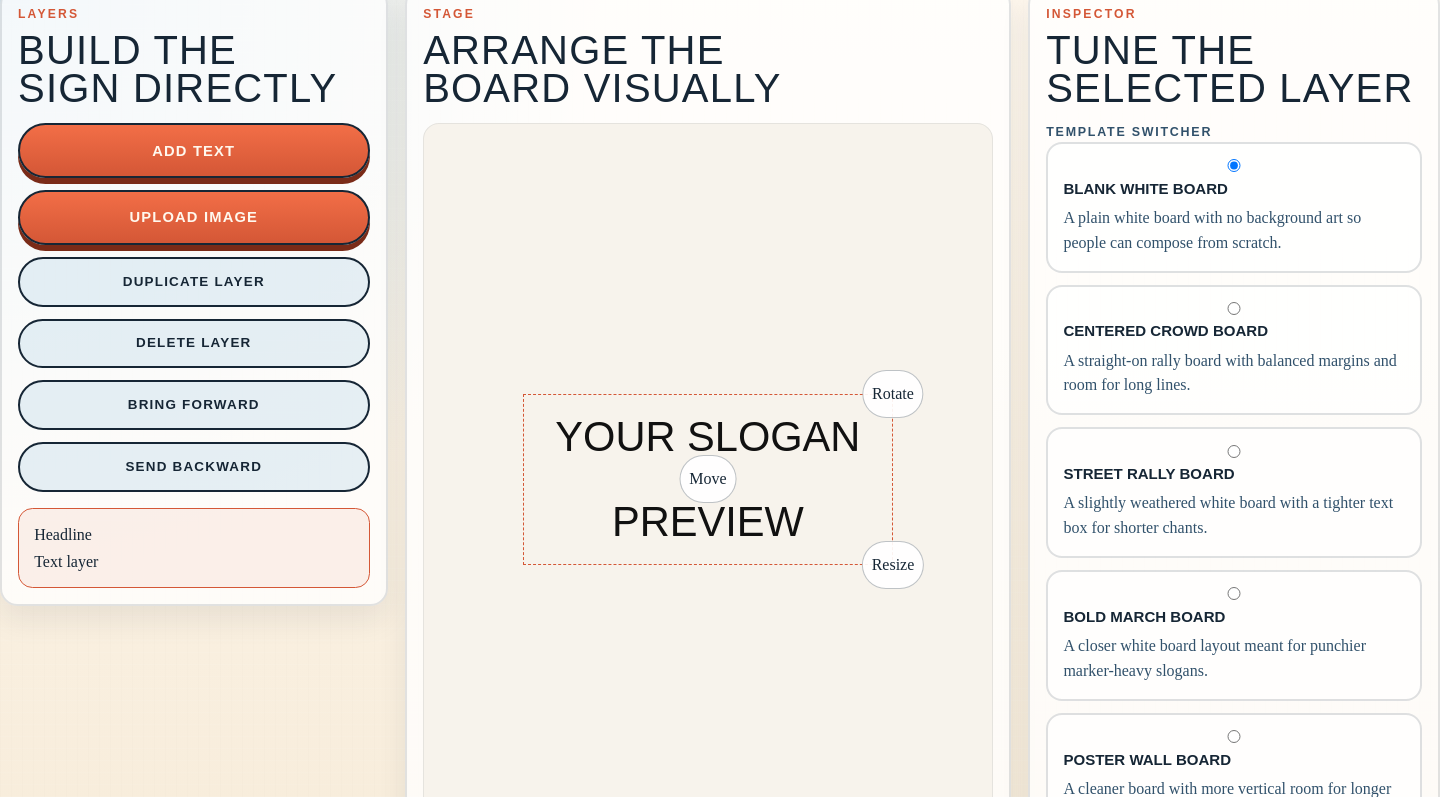
SubmitForm › updates board state when a selected layer is moved, rotated, and resized
The image size is (1440, 797).
Press the mouse on the button with test id "stage-layer-handle-move" at coordinates (708, 479), box [679,455,736,503]
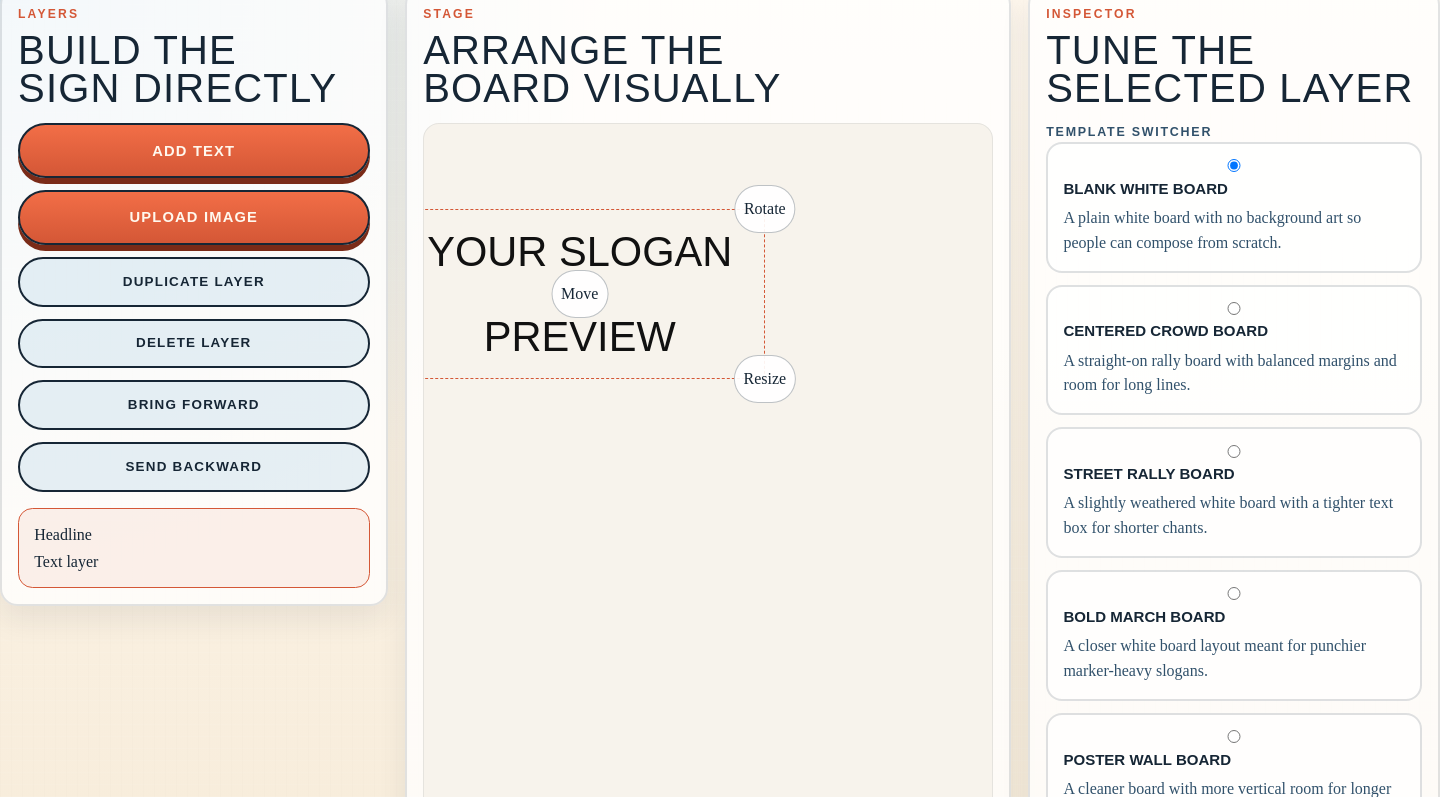
Press the mouse on the button with test id "stage-layer-handle-rotate" at coordinates (765, 209), box [734,185,796,233]
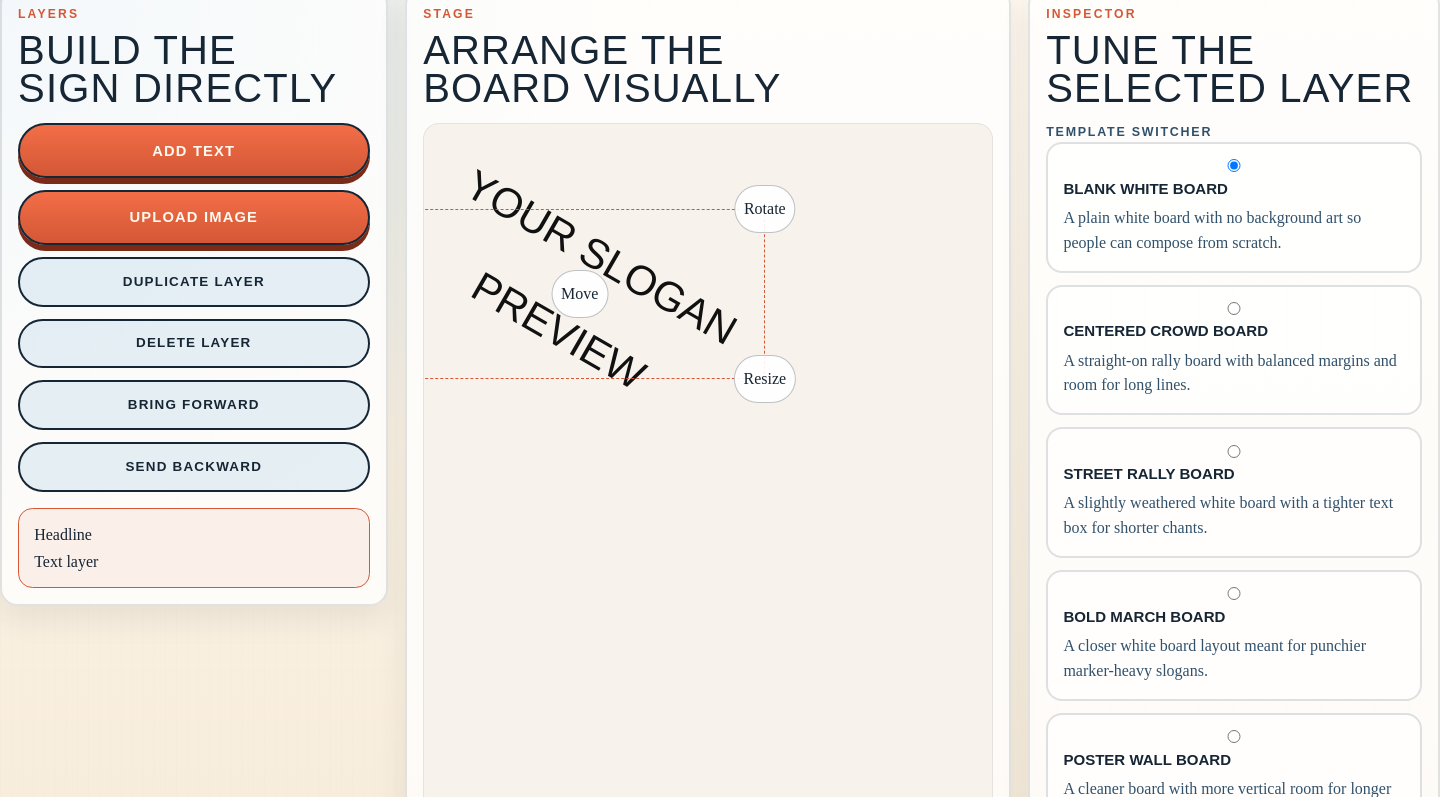
Press the mouse on the button with test id "stage-layer-handle-resize" at coordinates (765, 380), box [734,356,796,404]
(page scrolled)
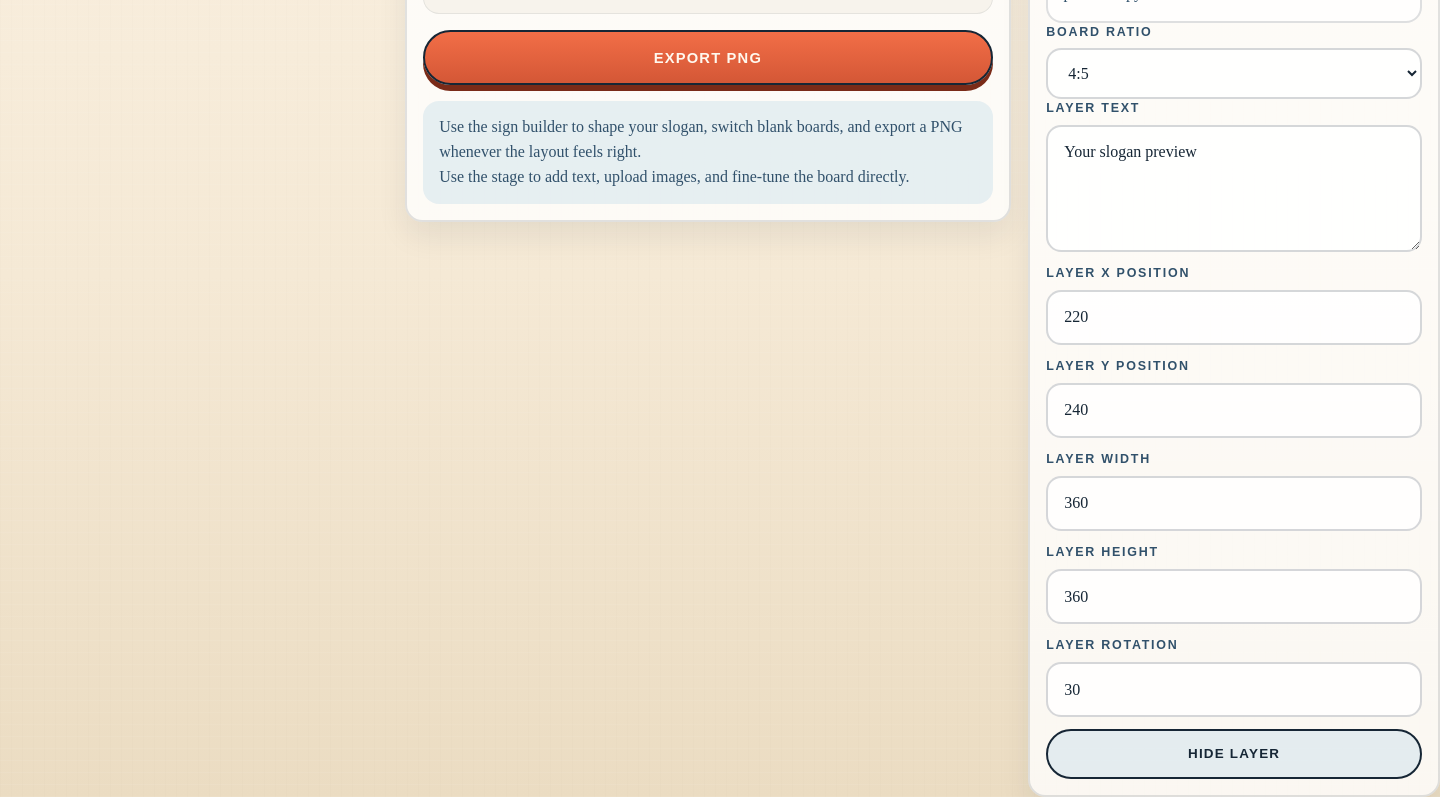
Expected: the number field showing "220" is shown, [1046,290,1422,345]
Expected: the number field labelled "Layer rotation" holds "30", [1046,662,1422,717]
Expected: the number field labelled "Layer width" holds "360", [1046,476,1422,531]
